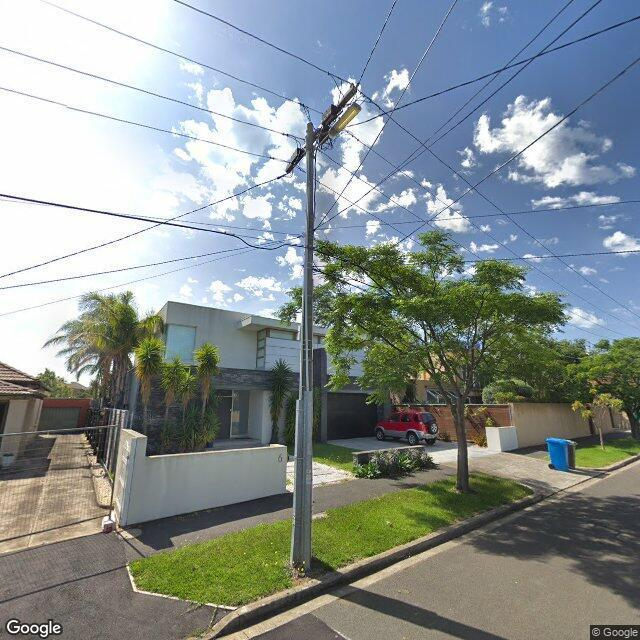crossarm: (286, 85, 358, 173)
streetlight: (311, 102, 361, 154)
timber-pole: (290, 121, 316, 568)
